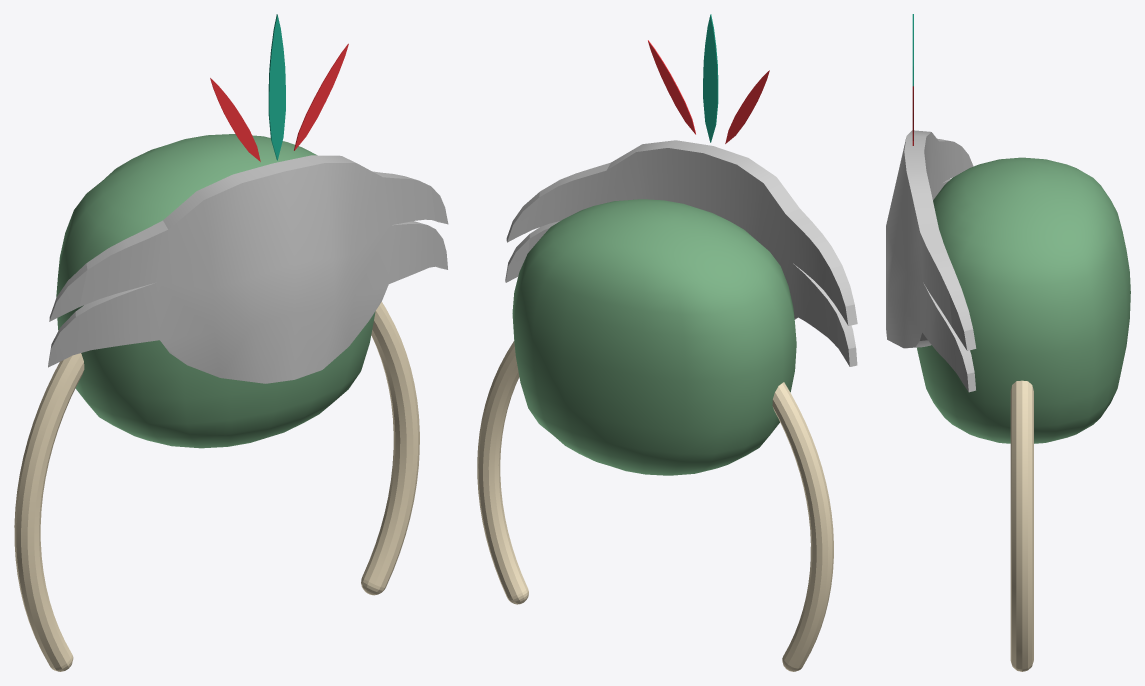
File: enemy03.fbx
3 views of the same model, side by side, from view 1: azimuth 30°, elevation 25°; view 2: azimuth 150°, elevation 25°; view 3: azimuth 270°, elevation 25° (orthographic). The views are drawn at different scales.
Visible parts, largest first — view 1: enemy03; view 2: enemy03; view 3: enemy03.
Boxes of the visible parts, x1,y1,x2,y2 form: enemy03: [14, 14, 448, 671]; enemy03: [477, 14, 857, 671]; enemy03: [886, 14, 1130, 671].
Size of the model in its own units: 2.7 by 4.25 by 1.6.
